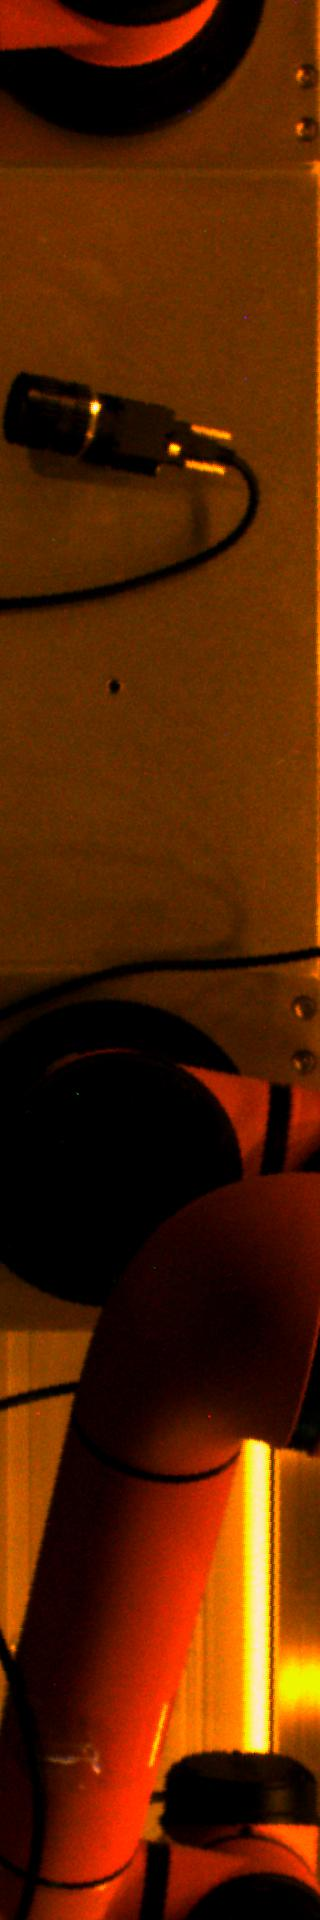keyPoint_2: (98, 672, 128, 702)
